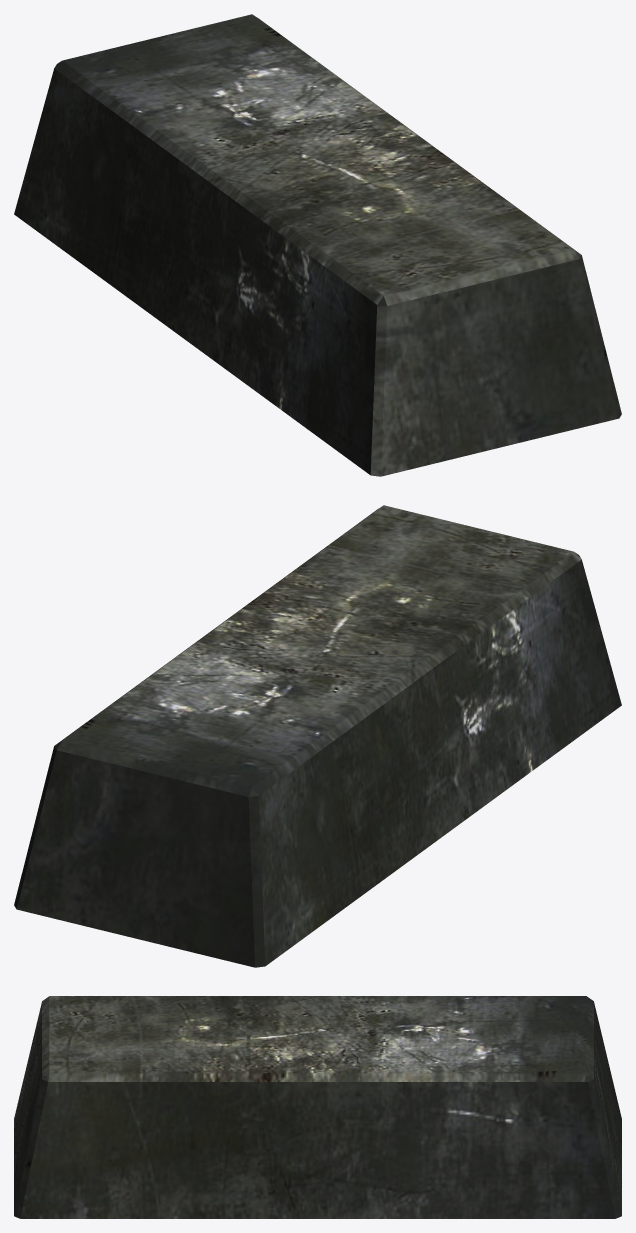
File: IronIngot.fbx
The picture shows the model from 3 angles, top to bottom: view 1: azimuth 30°, elevation 25°; view 2: azimuth 150°, elevation 25°; view 3: azimuth 270°, elevation 25°; orthographic projection. The views are drawn at different scales.
Parts seen in each view (by area): view 1: Ingot; view 2: Ingot; view 3: Ingot.
Part boxes in pixels (left/top/right/bottom): Ingot: left=14, top=14, right=621, bottom=476; Ingot: left=14, top=505, right=621, bottom=967; Ingot: left=14, top=996, right=621, bottom=1218.
Bounding box in the file's own units: 1.59 × 0.9608 × 3.98.
1 material, 1 textured.
